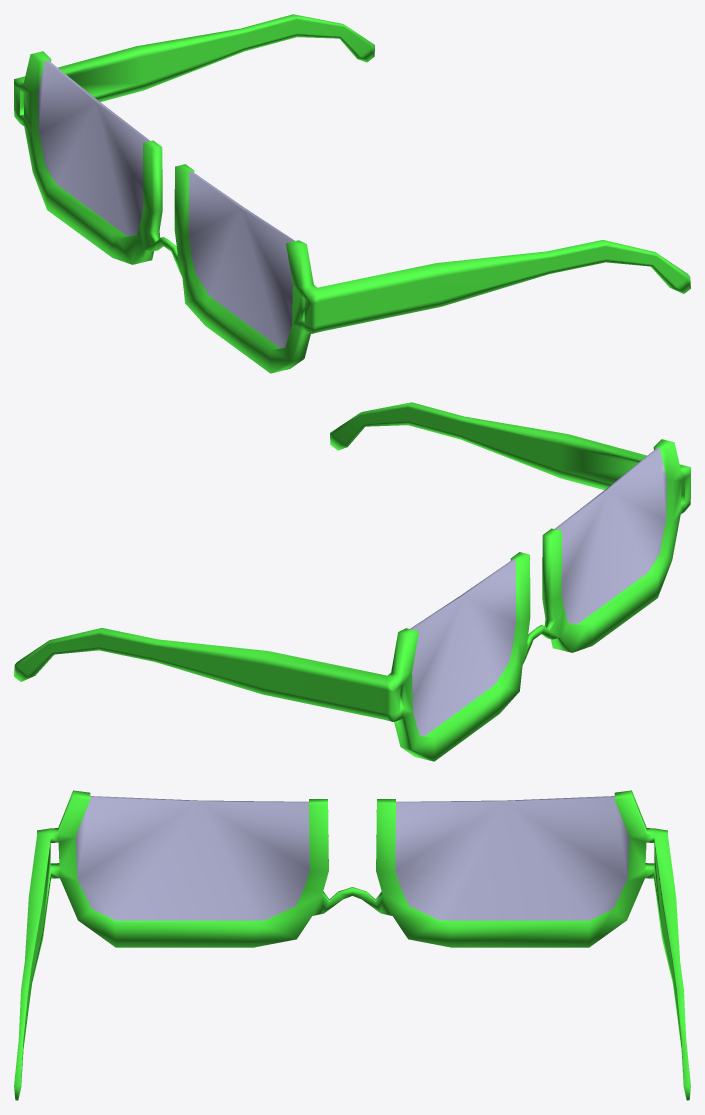
Rendered from Okulary.fbx.
3 views of the same model, one above another, from view 1: azimuth 30°, elevation 25°; view 2: azimuth 150°, elevation 25°; view 3: azimuth 270°, elevation 25° (orthographic). The views are drawn at different scales.
Visible parts, largest first — view 1: Cube; view 2: Cube; view 3: Cube.
Boxes of the visible parts, x1,y1,x2,y2 form: Cube: (14,14,690,373); Cube: (14,402,690,761); Cube: (14,790,690,1100).
Size of the model in its own units: 361 by 130 by 534.
